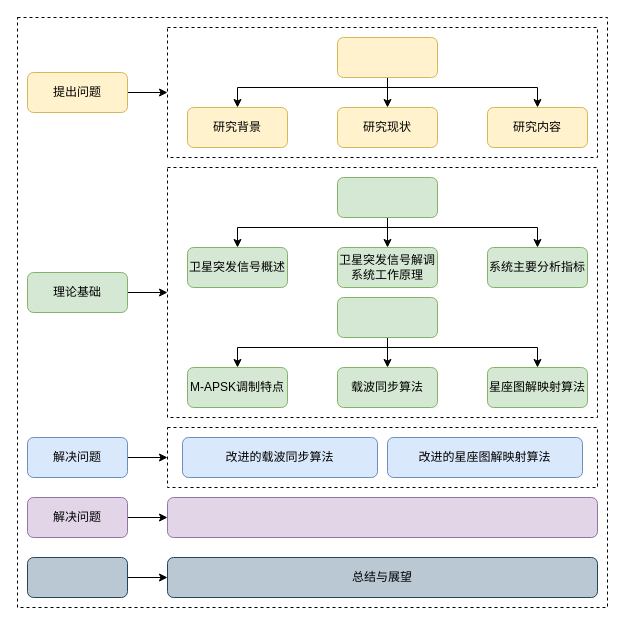
Some shapes in this 625 by 625 pixel diagram are drawn without their labels. Each missing label, with the centre of its shape:
"16-APSK解调算法" belongs at point 387,317.
"卫星突发信号解调系统" belongs at point 387,197.
"卫星突发信号解调系统的设计与实现" belongs at point 382,517.
"工作总结" belongs at point 77,577.
"绪论" belongs at point 387,57.
